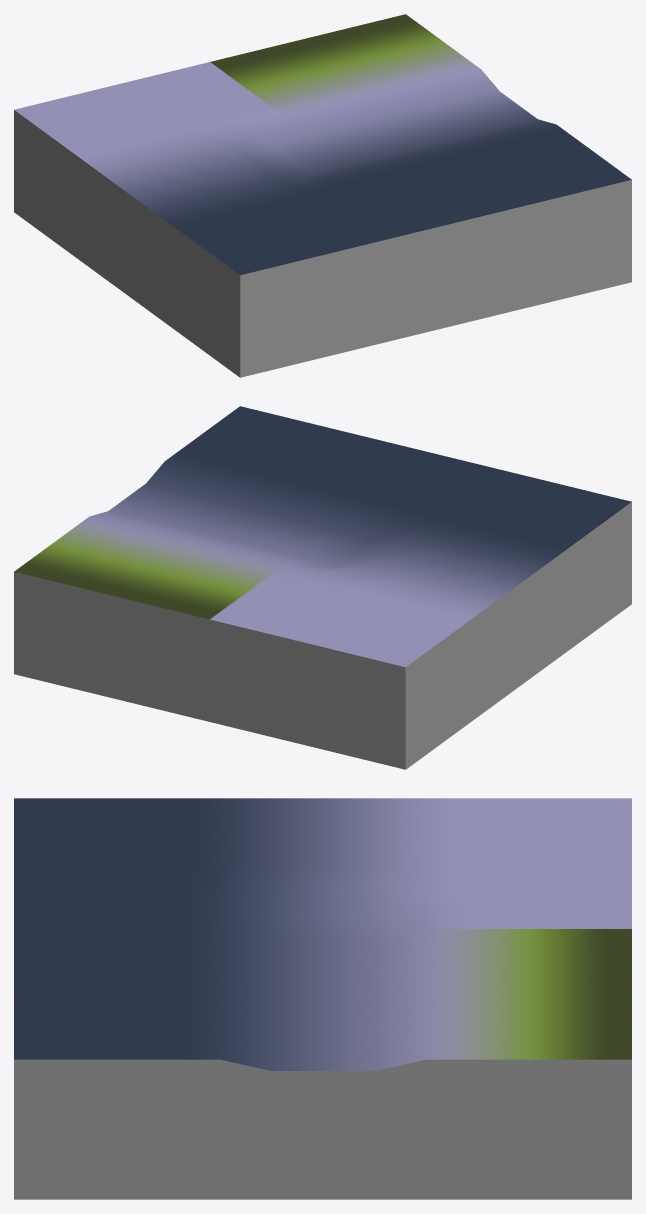
Rendered from PathFlatDeadEnd.fbx.
3 renders of one model, top to bottom at view 1: azimuth 30°, elevation 25°; view 2: azimuth 150°, elevation 25°; view 3: azimuth 270°, elevation 25°, orthographic. The views are drawn at different scales.
Visible parts, largest first — view 1: PathFlatDeadEnd; view 2: PathFlatDeadEnd; view 3: PathFlatDeadEnd.
Boxes of the visible parts, box(x1,y1,x2,y2) form: PathFlatDeadEnd: box(14, 14, 631, 377); PathFlatDeadEnd: box(14, 406, 631, 769); PathFlatDeadEnd: box(14, 798, 631, 1199).
Size of the model in its own units: 1200 by 300 by 1200.
